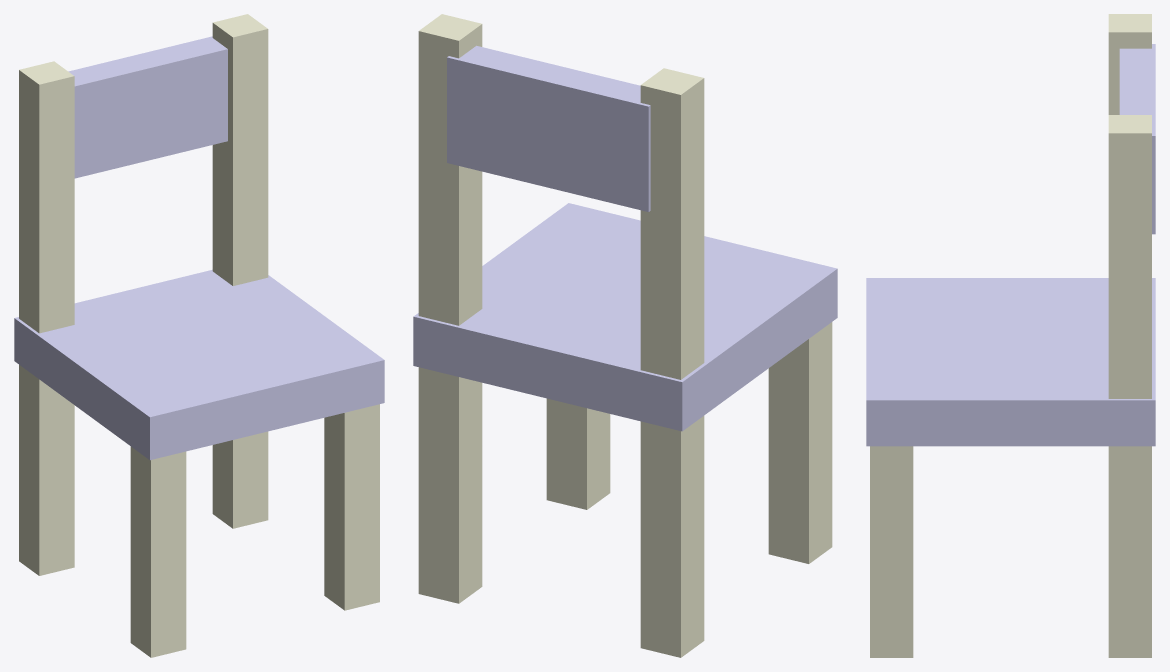
File: chair2_purple.glb
3 renders of one model, left to right at view 1: azimuth 30°, elevation 25°; view 2: azimuth 150°, elevation 25°; view 3: azimuth 270°, elevation 25°, orthographic. The views are drawn at different scales.
Visible parts, largest first — view 1: Box006; view 2: Box006; view 3: Box006.
Boxes of the visible parts, x1=… form: Box006: x1=14, y1=14, x2=384, y2=657; Box006: x1=413, y1=14, x2=837, y2=657; Box006: x1=866, y1=14, x2=1155, y2=657.
Bounding box in the file's own units: 0.08 × 0.16 × 0.08.
Materials: 1 (1 with a texture image).
